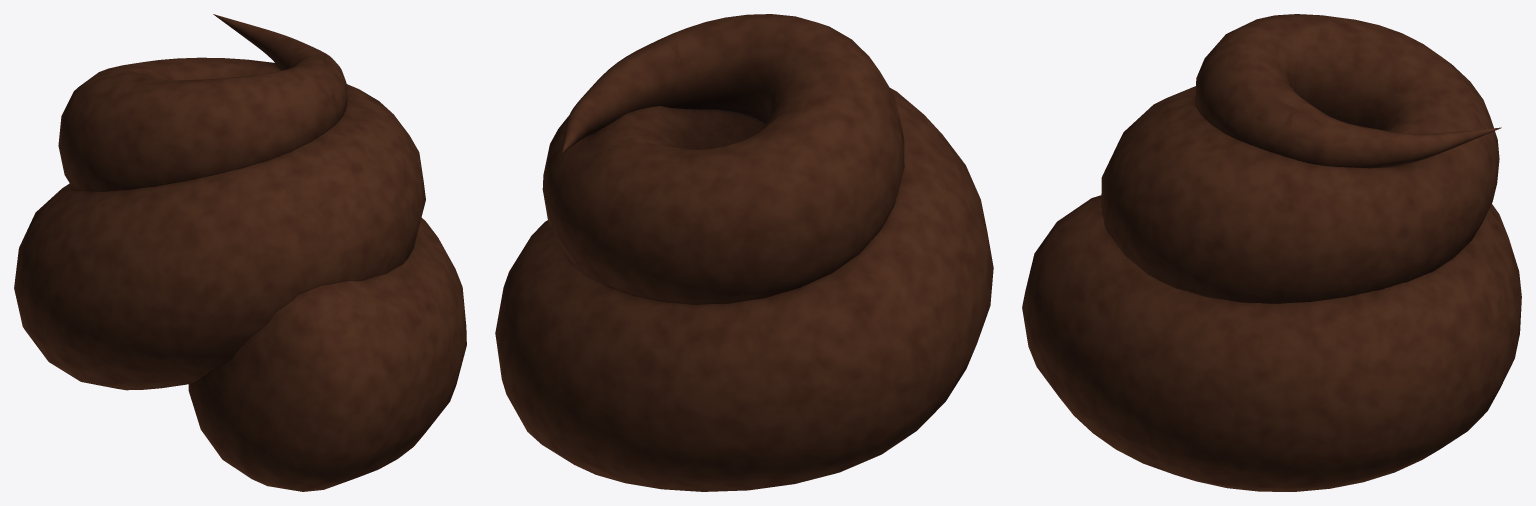
Rendered from Bok.fbx.
The picture shows the model from 3 angles, left to right: view 1: azimuth 30°, elevation 25°; view 2: azimuth 150°, elevation 25°; view 3: azimuth 270°, elevation 25°; orthographic projection. The views are drawn at different scales.
Parts seen in each view (by area): view 1: Vert; view 2: Vert; view 3: Vert.
Part boxes in pixels (left/top/right/bottom): Vert: left=14, top=14, right=466, bottom=491; Vert: left=495, top=14, right=993, bottom=491; Vert: left=1022, top=14, right=1521, bottom=491.
Size of the model in its own units: 44.78 by 41.29 by 48.37.
Materials: 1 (1 with a texture image).
